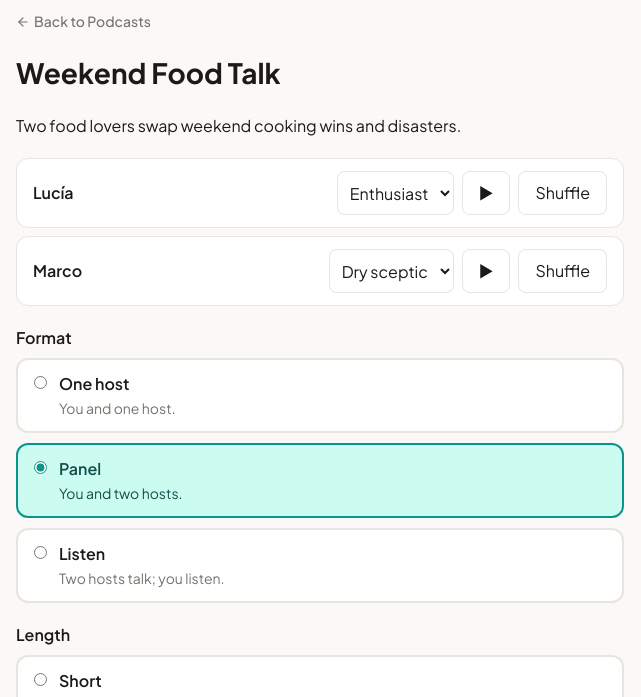
Scenario: PodcastSetup page — shaping the hosts (US5) › replaces only the shuffled host
The width and height of the screenshot is (641, 697).
Expected: the radio button labelled "Panel You and two hosts." is checked, [34,461,47,474]
Click the button with aria-label "Shuffle Marco". click: (563, 271)
box: [518,249,607,293]
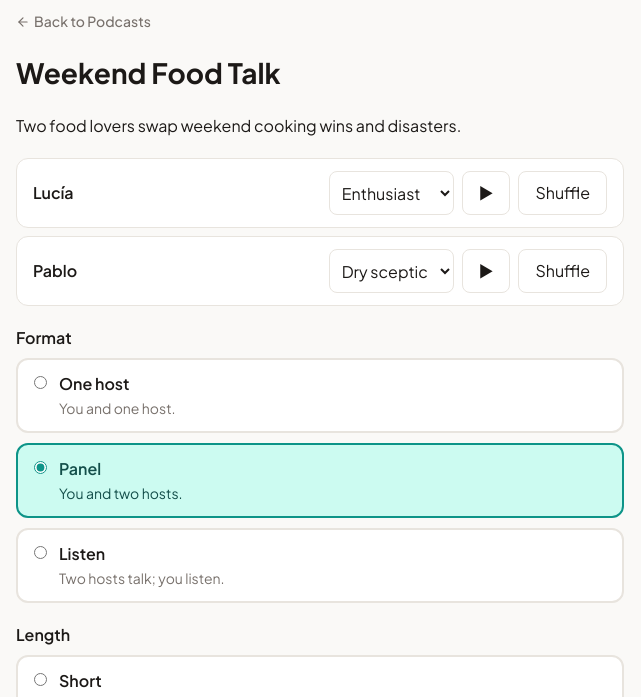
Expected: the text "Lucía" is shown, [33,182,74,203]
Result: the text "Pablo" is shown at [33,260,77,281]
